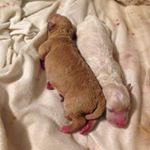puppy: (36, 11, 109, 138), (76, 10, 134, 130)
